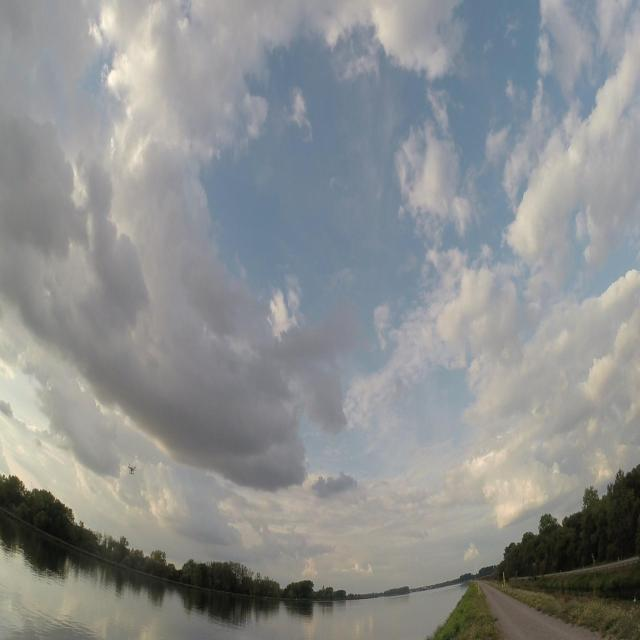drone: (124, 456, 139, 479)
